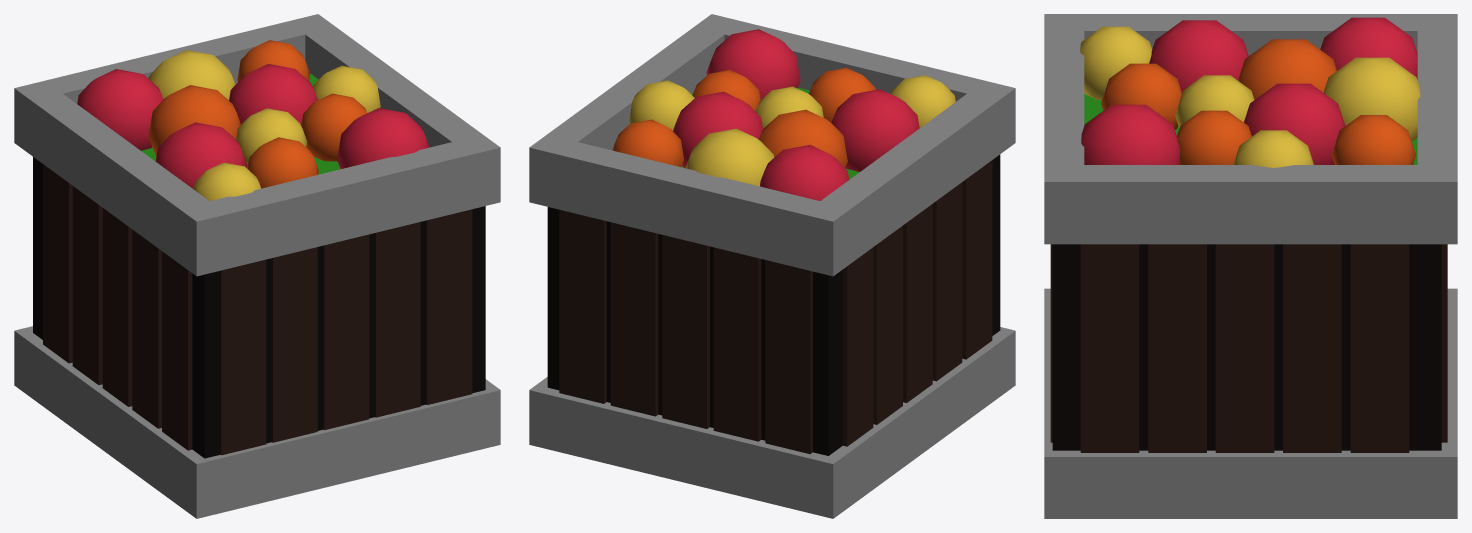
The model's file is Foodbox1.FBX.
3 views of the same model, side by side, from view 1: azimuth 30°, elevation 25°; view 2: azimuth 150°, elevation 25°; view 3: azimuth 270°, elevation 25° (orthographic). The views are drawn at different scales.
Parts seen in each view (by area): view 1: foodBucket1; view 2: foodBucket1; view 3: foodBucket1.
Part boxes in pixels (bbox=[...]): foodBucket1: bbox=[14, 14, 500, 518]; foodBucket1: bbox=[529, 14, 1015, 518]; foodBucket1: bbox=[1044, 14, 1457, 518].
Size of the model in its own units: 7.07 by 7.21 by 7.35.
